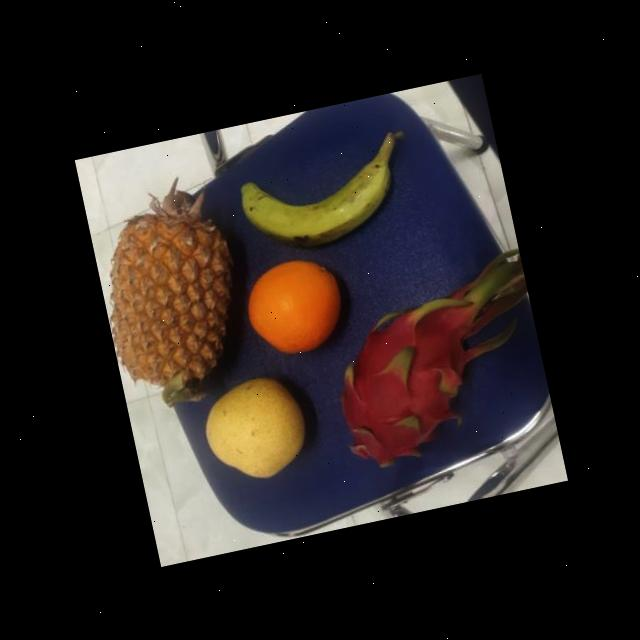banana: (236, 144, 405, 263)
guava: (197, 368, 315, 492)
pear: (238, 250, 350, 364)
pineapple: (88, 194, 260, 412)
pitaya: (322, 287, 495, 473)
